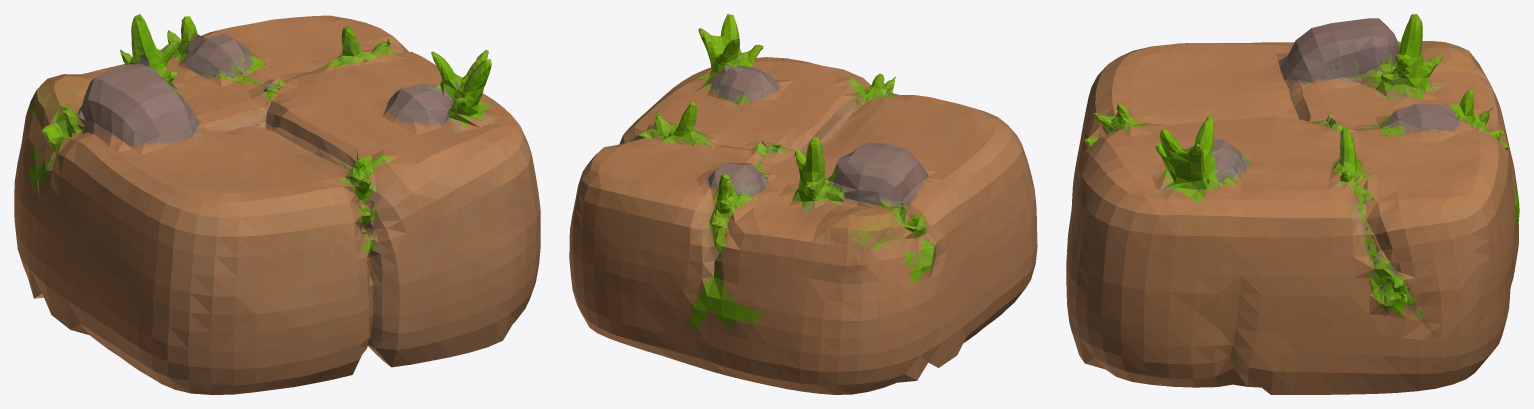
Rendered from Stage_02_Ground_SparseGrass_003.fbx.
3 views of the same model, side by side, from view 1: azimuth 30°, elevation 25°; view 2: azimuth 150°, elevation 25°; view 3: azimuth 270°, elevation 25° (orthographic). The views are drawn at different scales.
Visible parts, largest first — view 1: Stage_02_Ground_SparseGrass_003; view 2: Stage_02_Ground_SparseGrass_003; view 3: Stage_02_Ground_SparseGrass_003.
Boxes of the visible parts, x1,y1,x2,y2 form: Stage_02_Ground_SparseGrass_003: (14,14,540,394); Stage_02_Ground_SparseGrass_003: (569,14,1037,394); Stage_02_Ground_SparseGrass_003: (1066,14,1519,394).
Size of the model in its own units: 98.34 by 60.33 by 98.23.
